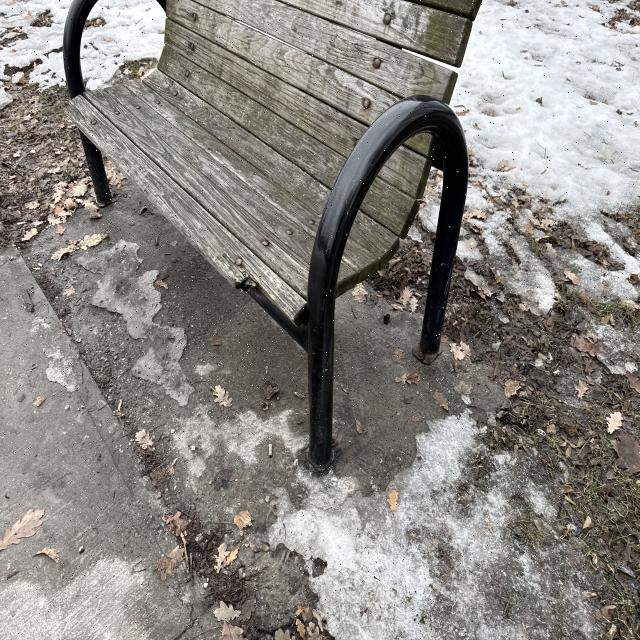Bench: (150, 2, 470, 452)
